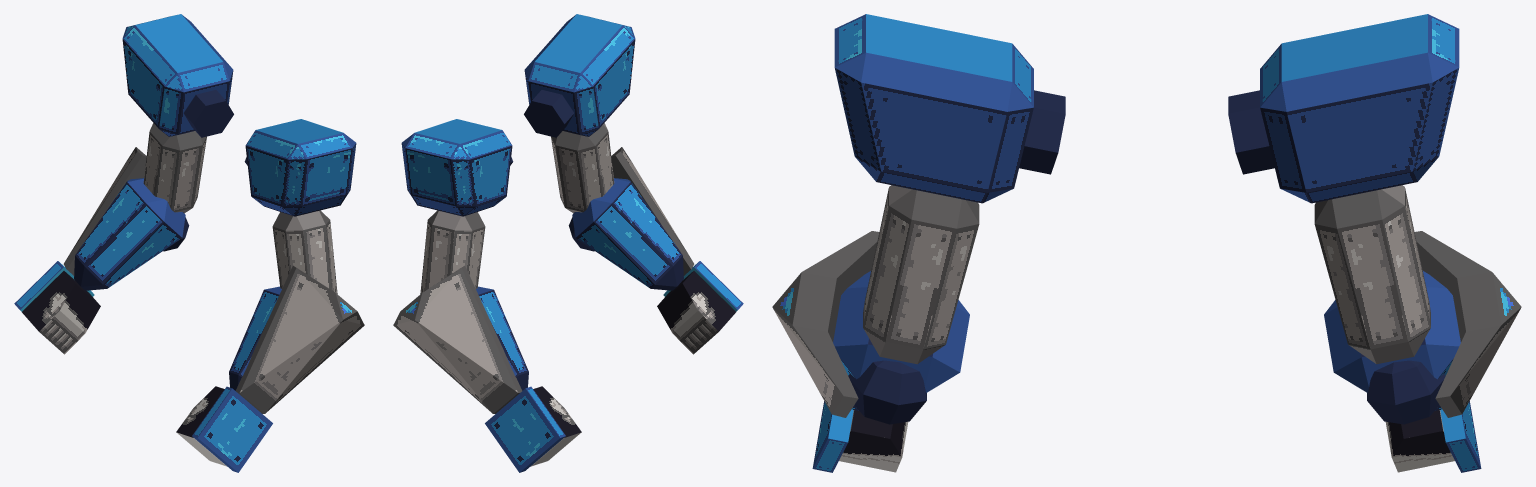
File: RangedArm.gltf
The picture shows the model from 3 angles, left to right: view 1: azimuth 30°, elevation 25°; view 2: azimuth 150°, elevation 25°; view 3: azimuth 270°, elevation 25°; orthographic projection. The views are drawn at different scales.
Visible parts, largest first — view 1: Shoulder (×2), BackGuard, ForeArm (×2), beveled_cuboid (×2), Hand (×2), HandGuard (×2), cylinder, FrontGuard; view 2: Shoulder (×2), FrontGuard, ForeArm (×2), beveled_cuboid (×2), Hand (×2), HandGuard (×2), cylinder, BackGuard; view 3: Shoulder (×2), beveled_cuboid (×2), ForeArm (×2), FrontGuard, BackGuard, sphere (×2), Hand (×2), cylinder (×2), HandGuard (×2).
Part boxes in pixels (<box>): Shoulder (×2): <box>122,14,356,216</box>; BackGuard: <box>235,265,364,413</box>; ForeArm (×2): <box>74,178,281,390</box>; beveled_cuboid (×2): <box>143,123,337,293</box>; Hand (×2): <box>22,271,226,466</box>; HandGuard (×2): <box>14,261,272,472</box>; cylinder: <box>183,90,233,137</box>; FrontGuard: <box>63,147,146,275</box>; Shoulder (×2): <box>401,14,635,216</box>; FrontGuard: <box>393,265,522,413</box>; ForeArm (×2): <box>476,178,683,390</box>; beveled_cuboid (×2): <box>420,123,614,293</box>; Hand (×2): <box>531,271,735,466</box>; HandGuard (×2): <box>485,261,743,472</box>; cylinder: <box>524,90,574,137</box>; BackGuard: <box>611,147,694,275</box>; Shoulder (×2): <box>834,14,1459,203</box>; beveled_cuboid (×2): <box>863,185,1430,364</box>; ForeArm (×2): <box>833,271,1460,410</box>; FrontGuard: <box>1414,231,1521,417</box>; BackGuard: <box>772,231,879,417</box>; sphere (×2): <box>848,360,1445,424</box>; Hand (×2): <box>839,410,1454,472</box>; cylinder (×2): <box>1019,90,1274,174</box>; HandGuard (×2): <box>812,401,1481,472</box>.
Bounding box in the file's own units: 0.6258 × 1.06 × 1.37.
1 material, 1 textured.
